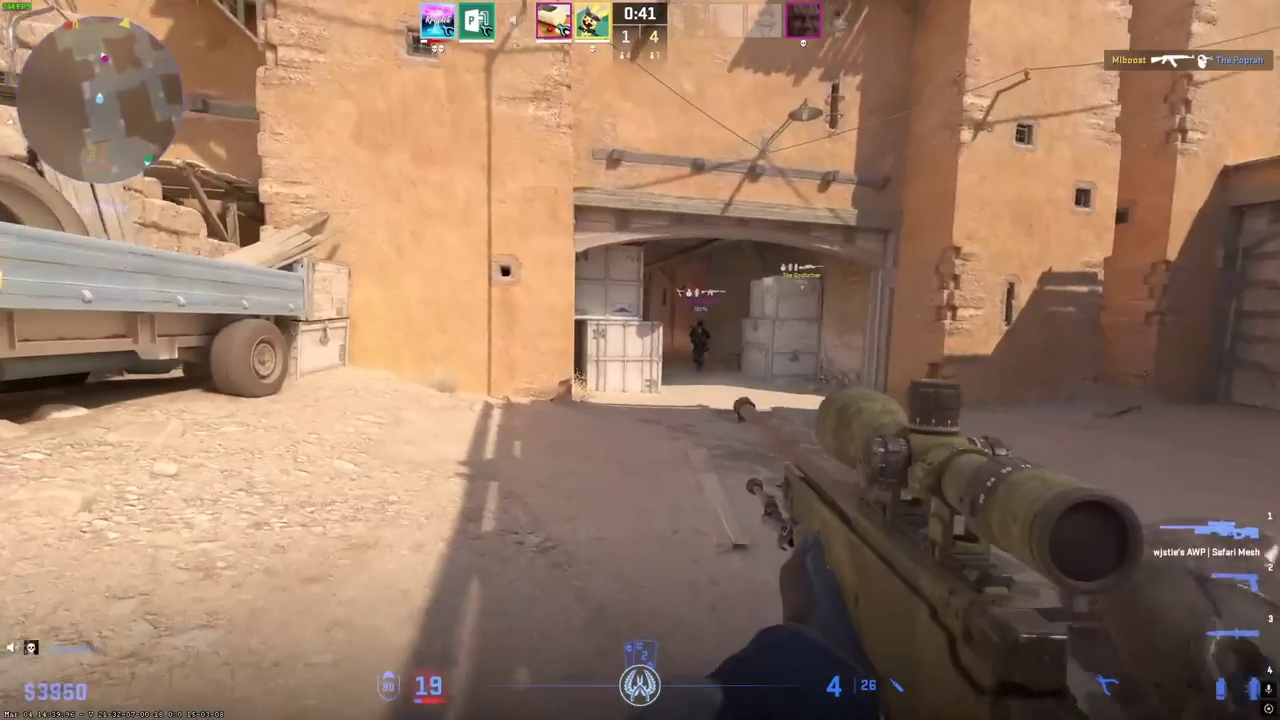CT: (690, 321, 710, 369)
